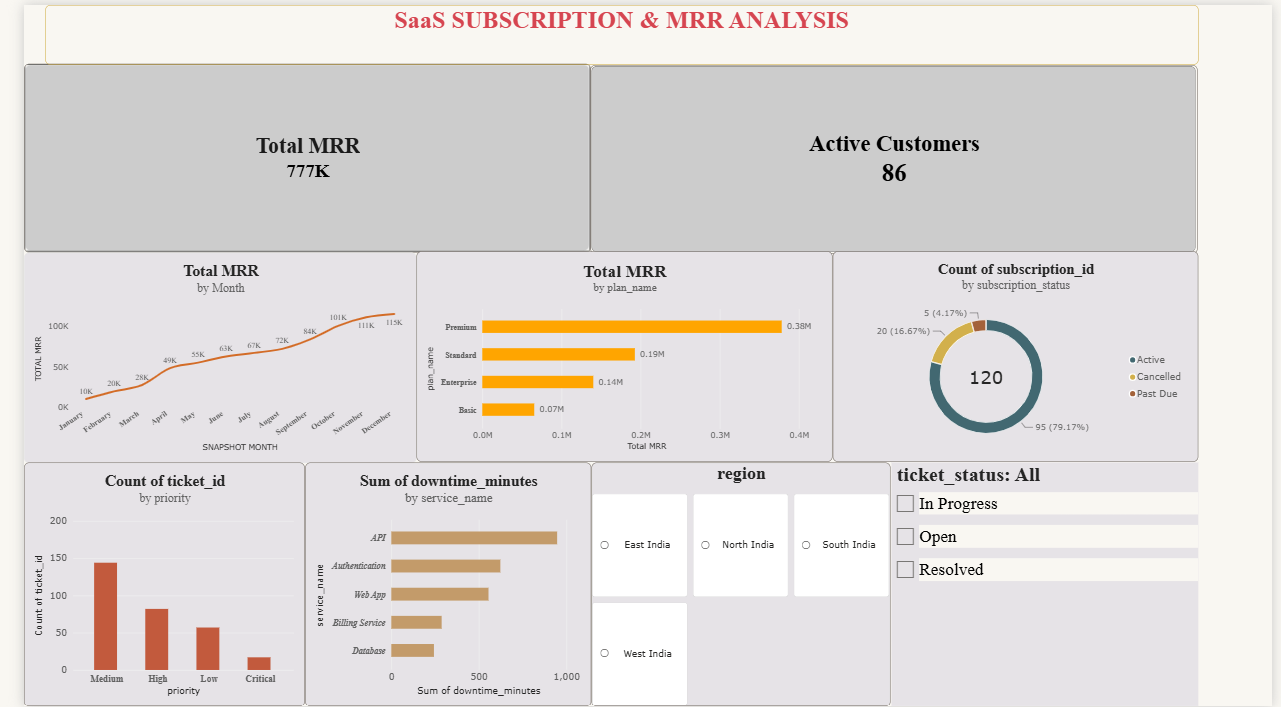

The page's visual inventory and layout, read from the dashboard file:
{"tool":"powerbi","page":{"name":"Page 1","canvas":[1920,1080],"ordinal":0},"visuals":[{"type":"cardVisual","fields":{"Data":["MRR_Snapshot.Total MRR"]},"box":[0,90,872,290],"z":0},{"type":"cardVisual","fields":{"Data":["Customers.Active Customers"]},"box":[872,92,934,290],"z":1000},{"type":"lineChart","fields":{"Category":["MRR_Snapshot.snapshot_month.Variation.Date Hierarchy.Month"],"Y":["MRR_Snapshot.Total MRR"]},"box":[0,380,604,324],"z":2000},{"type":"barChart","fields":{"Category":["MRR_Snapshot.plan_name"],"Y":["MRR_Snapshot.Total MRR"]},"box":[604,378,640,324],"z":3000},{"type":"donutChart","fields":{"Category":["Subscriptions.subscription_status"],"Y":["CountNonNull(Subscriptions.subscription_id)"]},"box":[1244,378,562,324],"z":4000},{"type":"clusteredColumnChart","fields":{"Category":["IT_Tickets.priority"],"Y":["CountNonNull(IT_Tickets.ticket_id)"]},"box":[0,704,432,376],"z":5000},{"type":"clusteredBarChart","fields":{"Category":["Downtime.service_name"],"Y":["Sum(Downtime.downtime_minutes)"]},"box":[432,704,440,376],"z":6000},{"type":"advancedSlicerVisual","fields":{"Values":["Customers.region"]},"box":[874,704,460,376],"z":7000},{"type":"slicer","fields":{"Values":["IT_Tickets.ticket_status"]},"box":[1334,704,472,376],"z":8000},{"type":"textbox","box":[32,0,1774,92],"z":9000}]}

Visuals, with their boxes in screenshot pixels (x1, y1, x2, y2), scaled from the page's 1920x1080 canvas onto the 1281x707 screenshot:
cardVisual - MRR_Snapshot.Total MRR: <bbox>0, 59, 582, 249</bbox>
cardVisual - Customers.Active Customers: <bbox>582, 60, 1205, 250</bbox>
lineChart - MRR_Snapshot.snapshot_month.Variation.Date Hierarchy.Month x MRR_Snapshot.Total MRR: <bbox>0, 249, 403, 461</bbox>
barChart - MRR_Snapshot.plan_name x MRR_Snapshot.Total MRR: <bbox>403, 247, 830, 460</bbox>
donutChart - Subscriptions.subscription_status x CountNonNull(Subscriptions.subscription_id): <bbox>830, 247, 1205, 460</bbox>
clusteredColumnChart - IT_Tickets.priority x CountNonNull(IT_Tickets.ticket_id): <bbox>0, 461, 288, 706</bbox>
clusteredBarChart - Downtime.service_name x Sum(Downtime.downtime_minutes): <bbox>288, 461, 582, 706</bbox>
advancedSlicerVisual - Customers.region: <bbox>583, 461, 890, 706</bbox>
slicer - IT_Tickets.ticket_status: <bbox>890, 461, 1205, 706</bbox>
textbox: <bbox>21, 0, 1205, 60</bbox>
